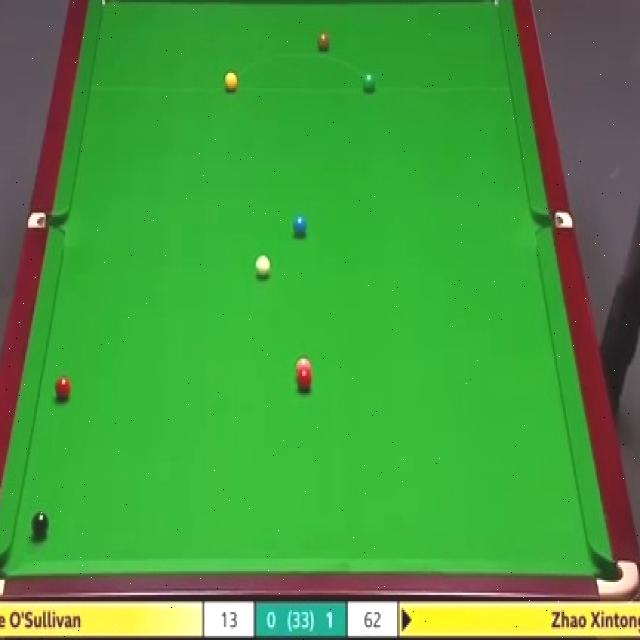black-ball: (28, 516, 46, 544)
blue-ball: (292, 214, 308, 238)
brown-ball: (317, 32, 330, 53)
green-ball: (361, 70, 376, 92)
pink-ball: (295, 356, 312, 371)
red-ball: (53, 373, 71, 402), (296, 368, 314, 391)
white-ball: (253, 253, 270, 280)
yellow-ball: (225, 71, 238, 92)
